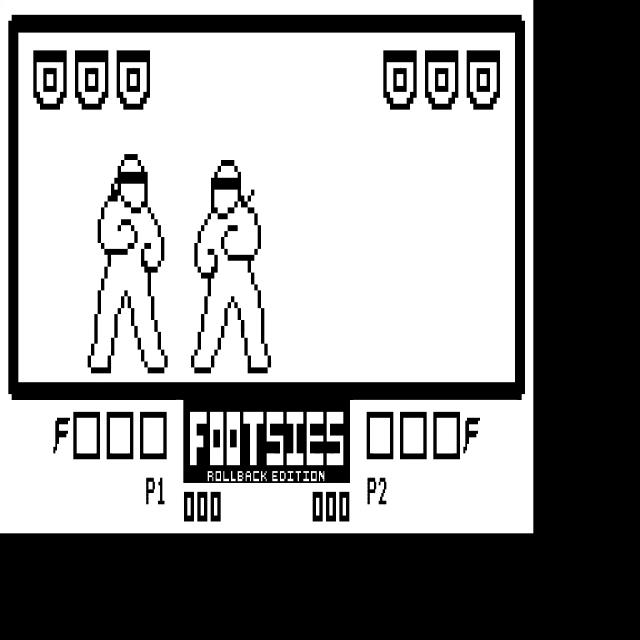Idle: (74, 148, 177, 378), (189, 158, 282, 376)
